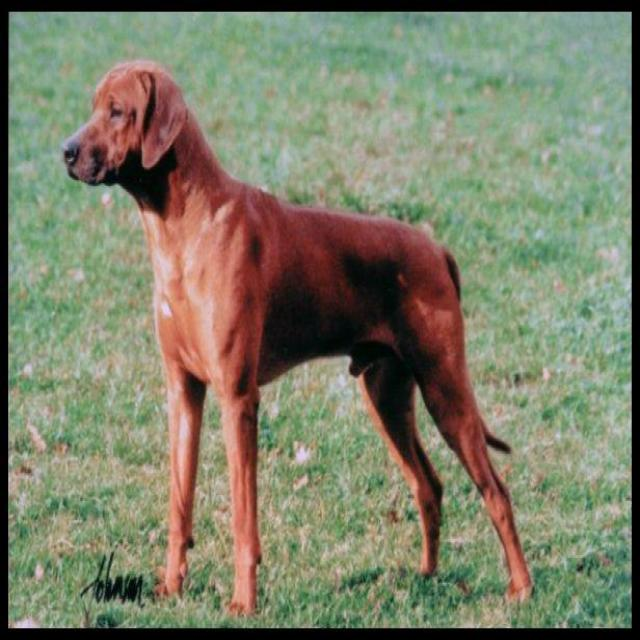good: (59, 58, 546, 620)
